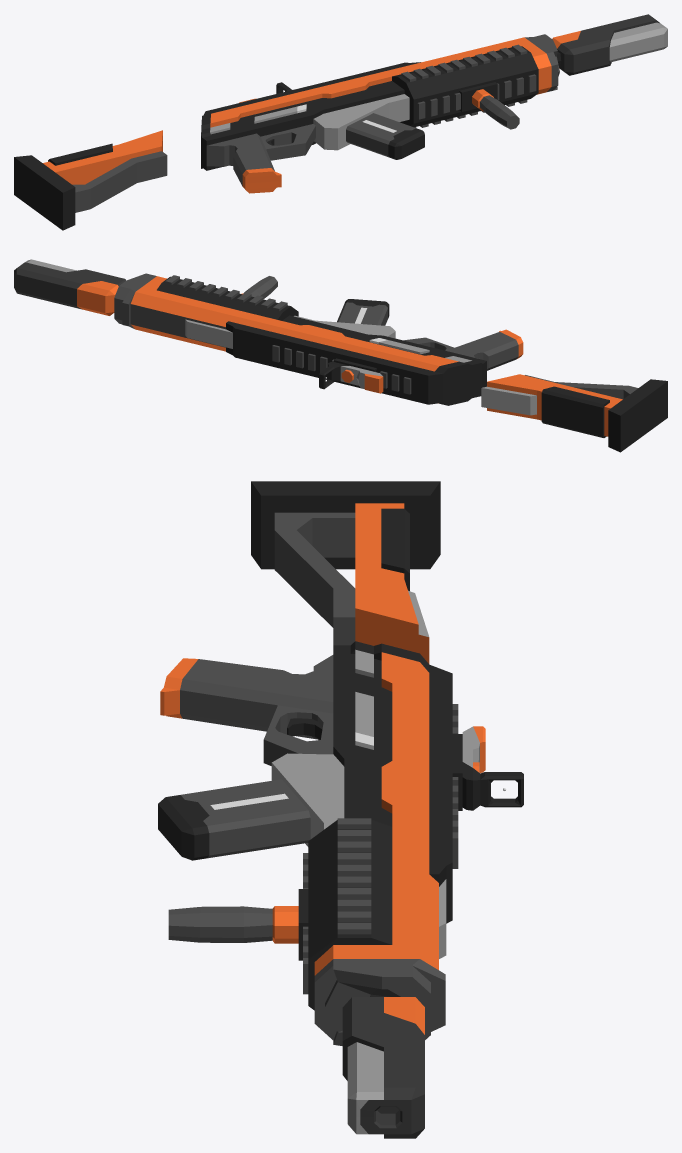
Rendered from Rifle.fbx.
3 renders of one model, top to bottom at view 1: azimuth 30°, elevation 25°; view 2: azimuth 150°, elevation 25°; view 3: azimuth 270°, elevation 25°, orthographic. The views are drawn at different scales.
Parts seen in each view (by area): view 1: rifle, stabilizer, mid mag 1, handle; view 2: rifle, stabilizer, collimator sight, mid mag 1, handle; view 3: rifle, stabilizer, mid mag 1, handle, collimator sight.
Part boxes in pixels (x1=…): rifle: x1=14, y1=34, x2=561, y2=230; stabilizer: x1=552, y1=14, x2=667, y2=75; mid mag 1: x1=346, y1=113, x2=424, y2=159; handle: x1=459, y1=82, x2=519, y2=129; rifle: x1=114, y1=273, x2=667, y2=452; stabilizer: x1=14, y1=259, x2=125, y2=315; collimator sight: x1=319, y1=358, x2=383, y2=393; mid mag 1: x1=337, y1=299, x2=389, y2=325; handle: x1=241, y1=276, x2=277, y2=298; rifle: x1=160, y1=481, x2=458, y2=1045; stabilizer: x1=342, y1=997, x2=424, y2=1138; mid mag 1: x1=158, y1=779, x2=310, y2=860; handle: x1=168, y1=889, x2=308, y2=960; collimator sight: x1=452, y1=726, x2=523, y2=810.
Bounding box in the file's own units: 615 × 47.8 × 159.
3 materials, 1 textured.
